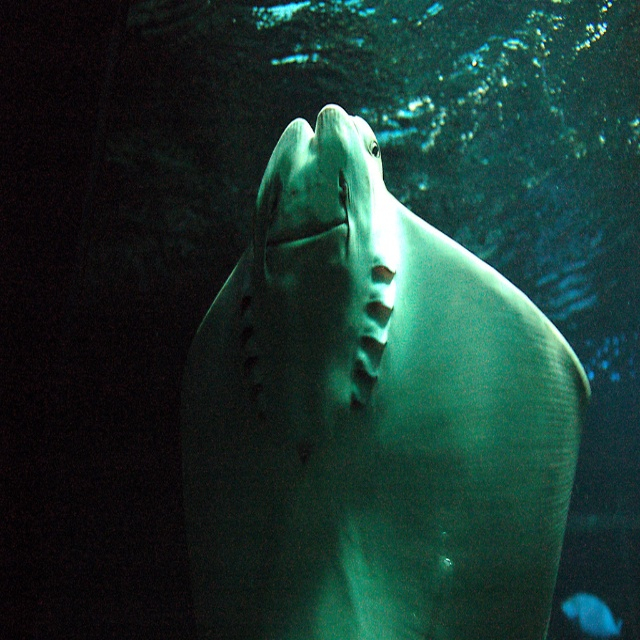Fish: (177, 103, 593, 640)
